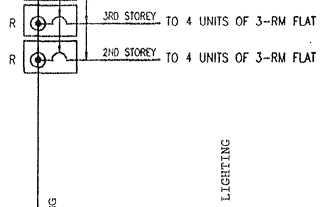Single Phase Tap-Off Unit: (19, 39, 80, 77), (20, 2, 81, 38)
